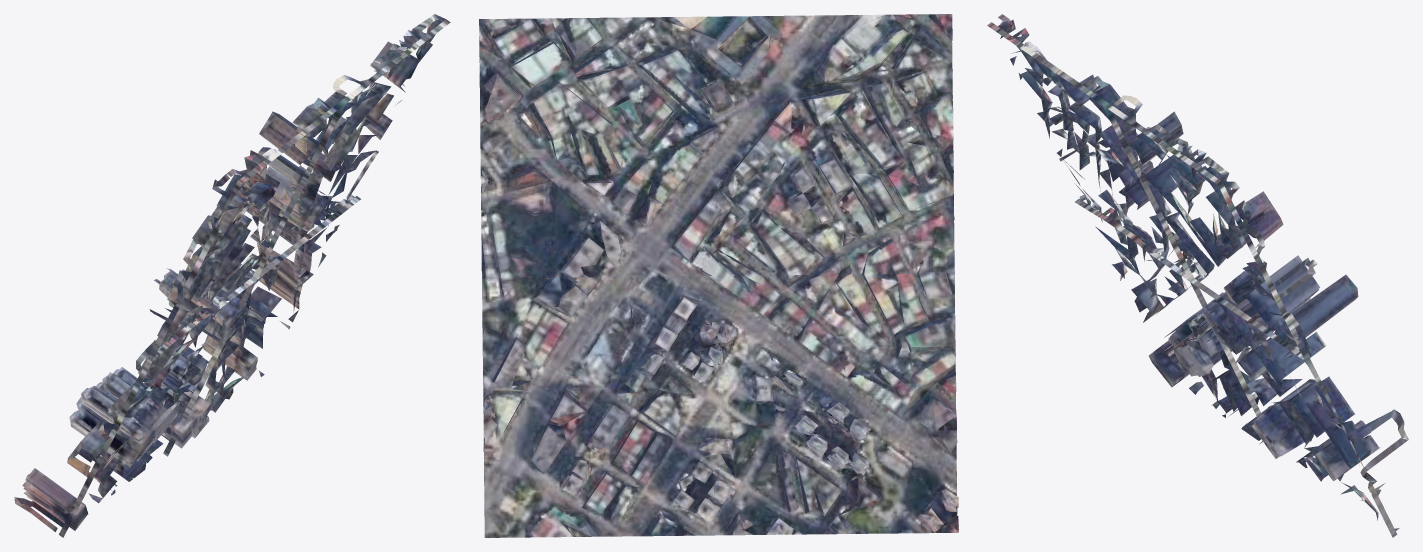
The picture shows the model from 3 angles, left to right: view 1: azimuth 30°, elevation 25°; view 2: azimuth 150°, elevation 25°; view 3: azimuth 270°, elevation 25°; orthographic projection. The views are drawn at different scales.
Bounding box in the file's own units: 645 × 567 × 529.
2 materials, 2 textured.
